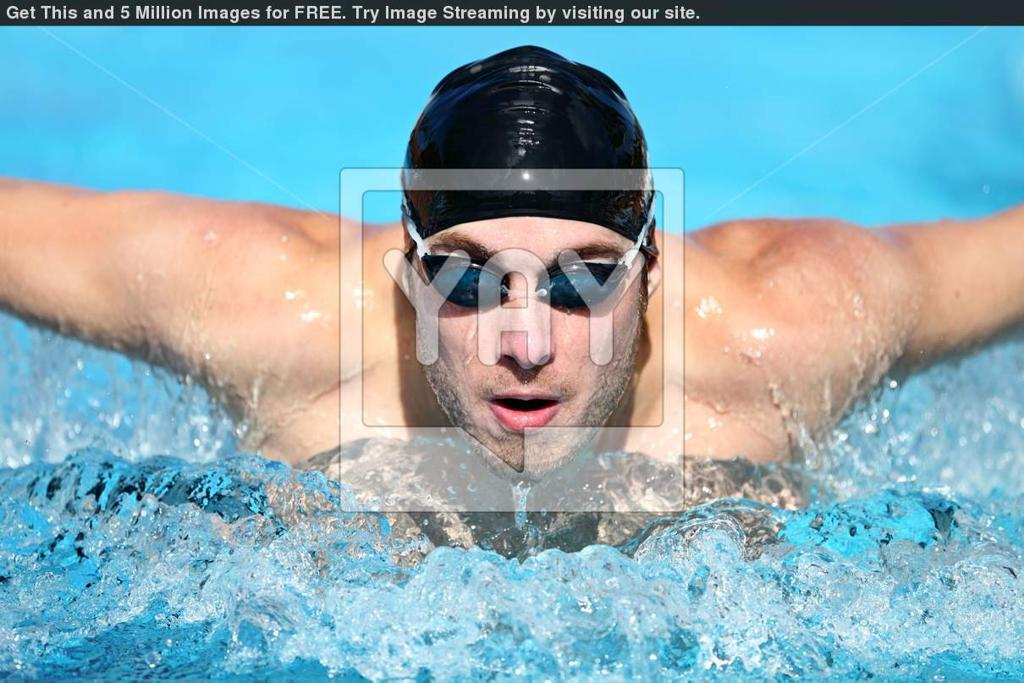face: (434, 216, 620, 468)
